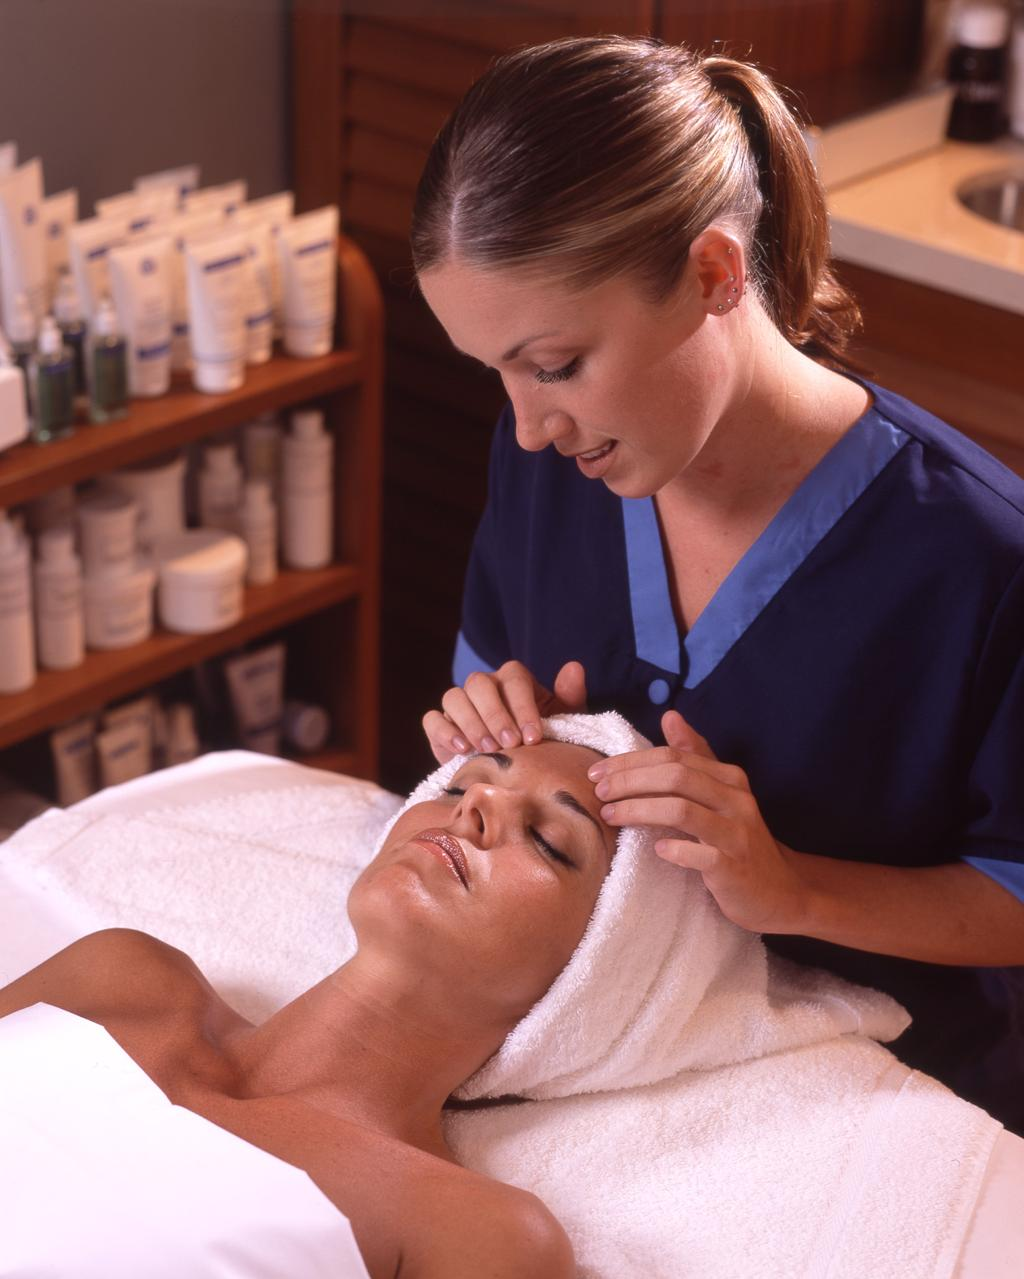face: (465, 270, 677, 495), (402, 719, 614, 939)
